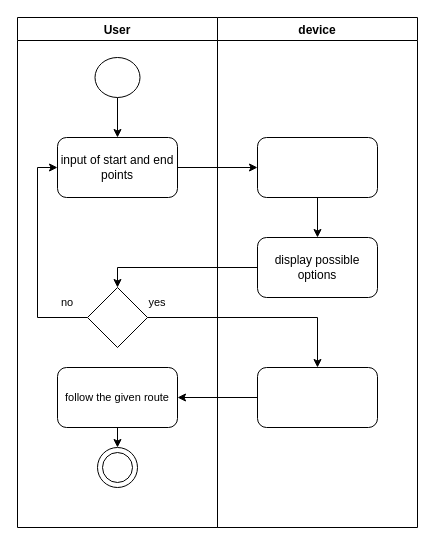
Image size: 435x545. Some labels were removed from this diagram. The shapes that lost their labels are listed below. From the top down, each one's box as (x1, y1, x2, y2) in pixels, then its label:
(256, 136, 378, 198): search for possible options
(86, 286, 148, 348): user selects option
(256, 366, 378, 428): display route for given points
